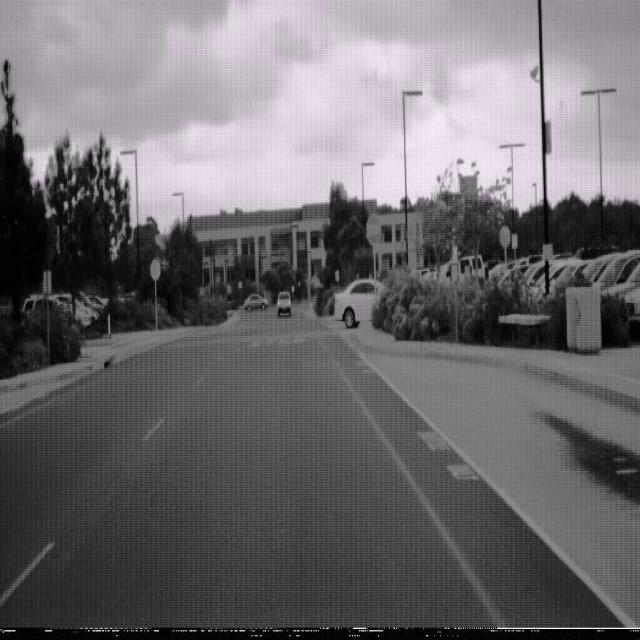stop_sign: (366, 212, 382, 247)
